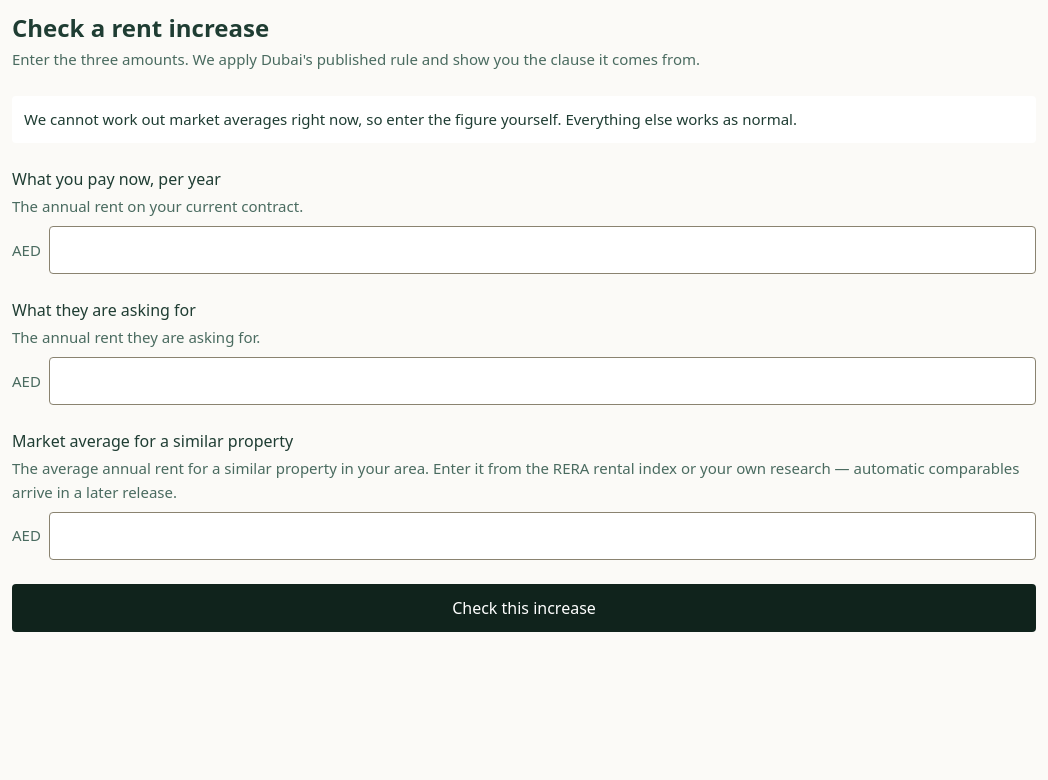
Scenario: Checker › case 2 — permitted: the rule says yes as readily as it says no
Step 1. Type "80000" into the field labelled "What you pay now, per year" → (542, 250), box [49, 226, 1036, 274]
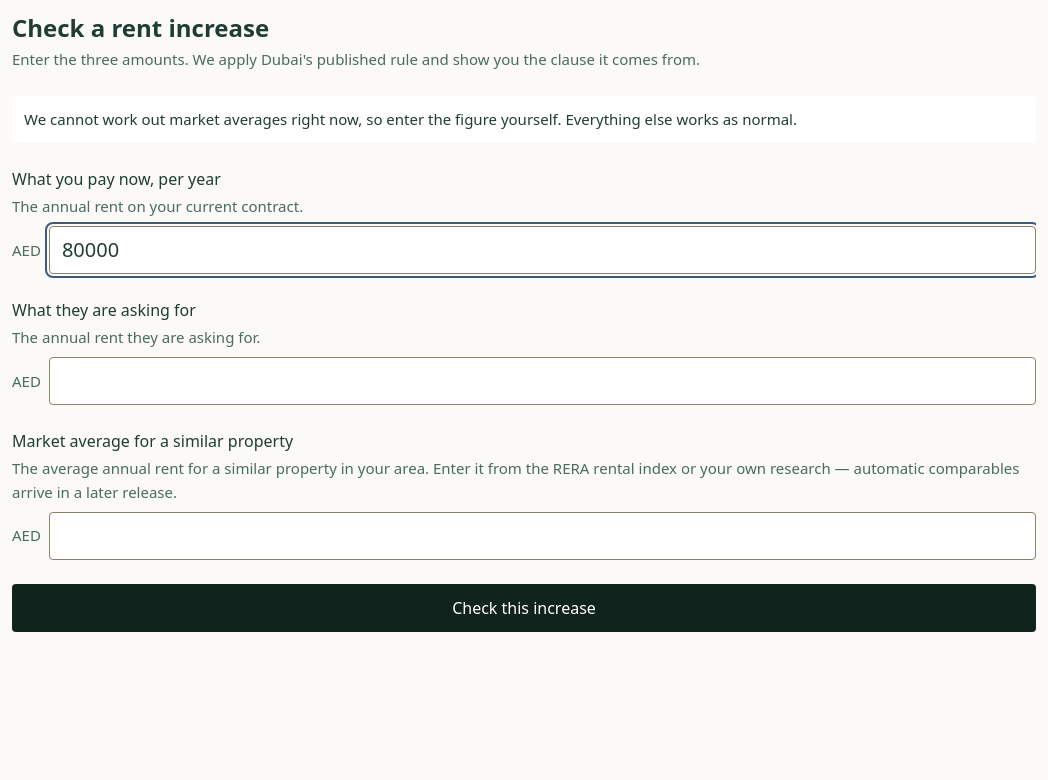
Step 2. Type "84000" into the field labelled "What they are asking for" → (542, 381), box [49, 357, 1036, 405]
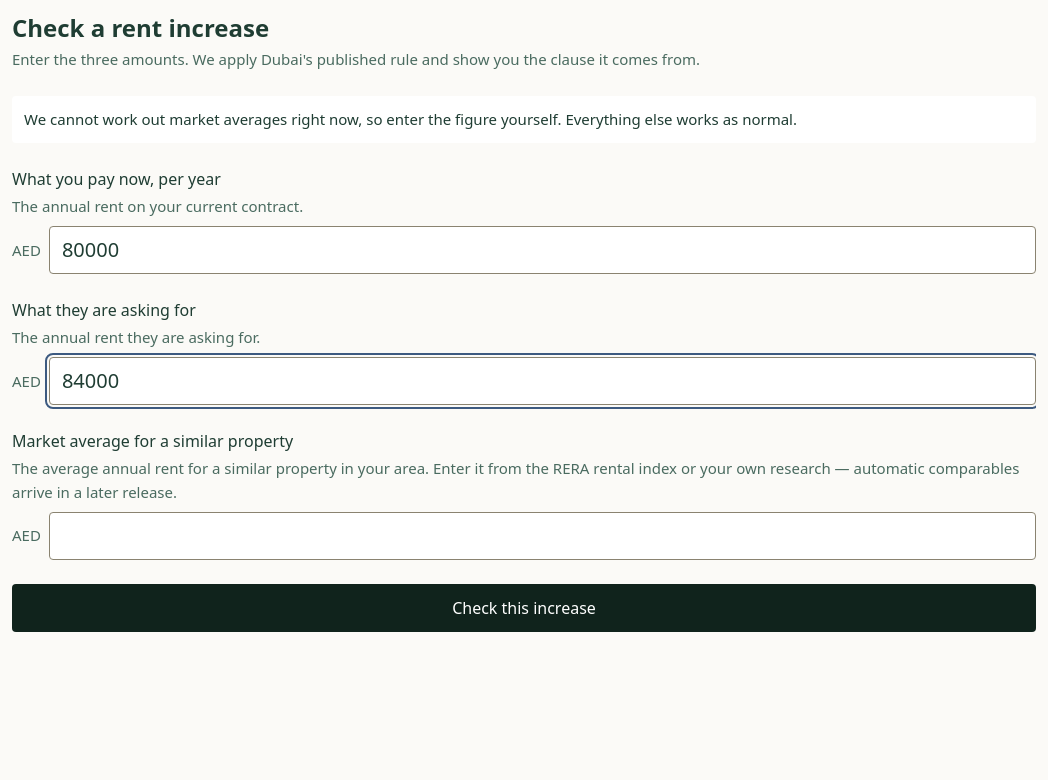
Step 3. Type "106667" into the field labelled "Market average for a similar property" → (542, 536), box [49, 512, 1036, 560]
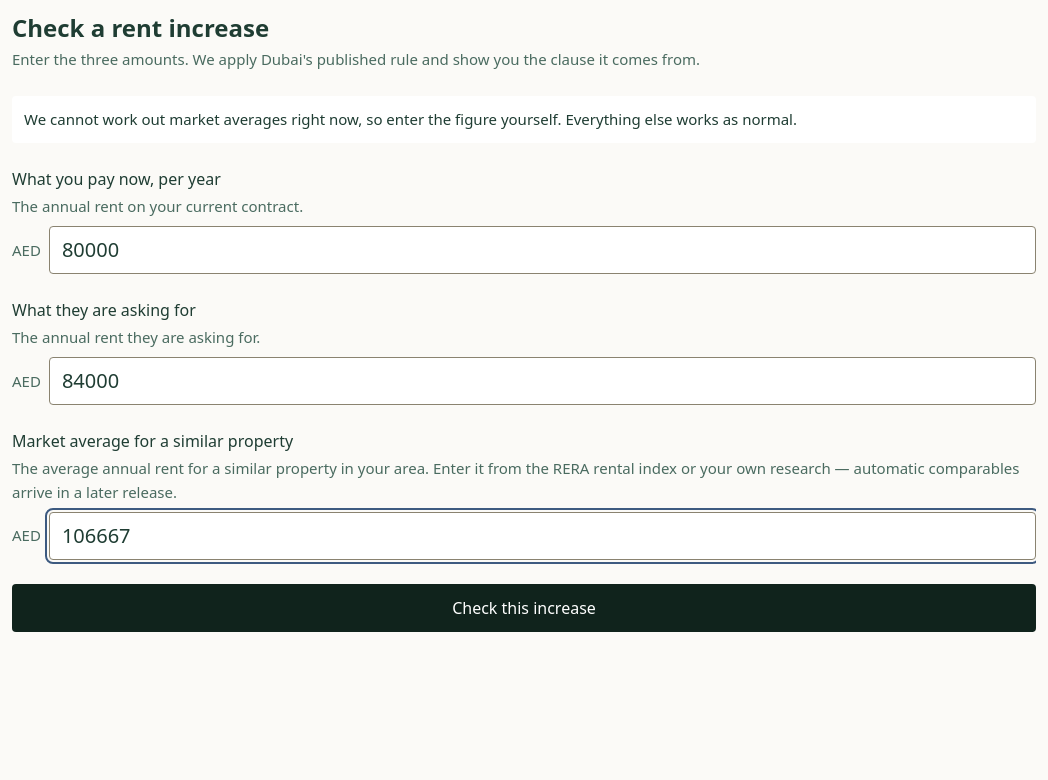
Step 4. Click the button "Check this increase" → (524, 608), box [12, 584, 1036, 632]
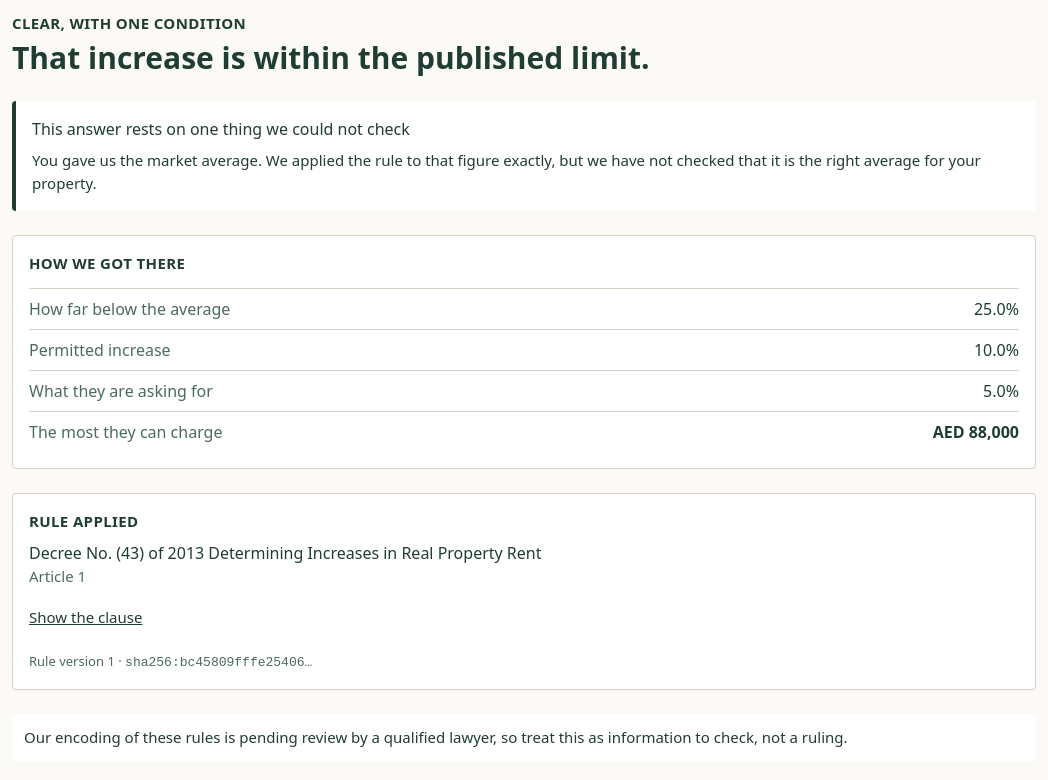
Result: the heading "That increase is within the published limit." is shown at [12, 37, 650, 78]
Result: the text "AED 88,000" is shown at [933, 420, 1019, 444]
